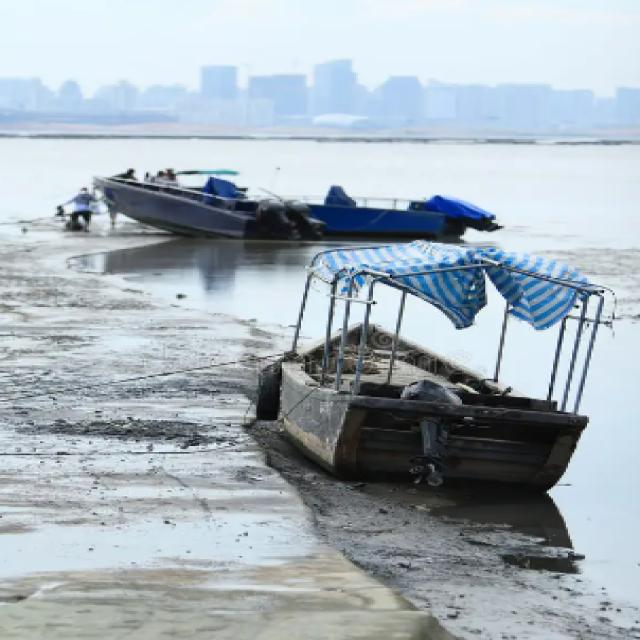fishing boat: (263, 234, 610, 489), (86, 152, 476, 241)
